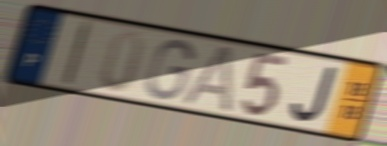0: (98, 28, 147, 95)
5: (236, 50, 293, 119)
A: (180, 43, 237, 115)
G: (143, 37, 196, 102)
I: (60, 18, 95, 88)
J: (288, 63, 340, 125)
